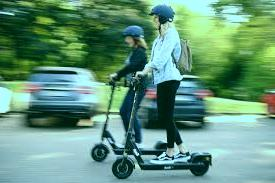helmet: (110, 4, 213, 179), (89, 26, 173, 162)
